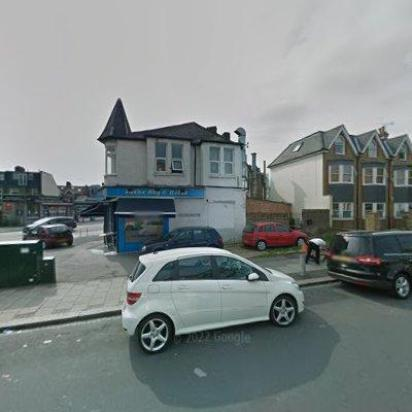moving-car: (24, 214, 78, 234)
stationary-car-offstreet: (139, 225, 225, 255), (240, 221, 310, 251), (22, 224, 74, 248)
stationary-car-onstreet: (121, 245, 307, 355), (324, 229, 412, 301)
